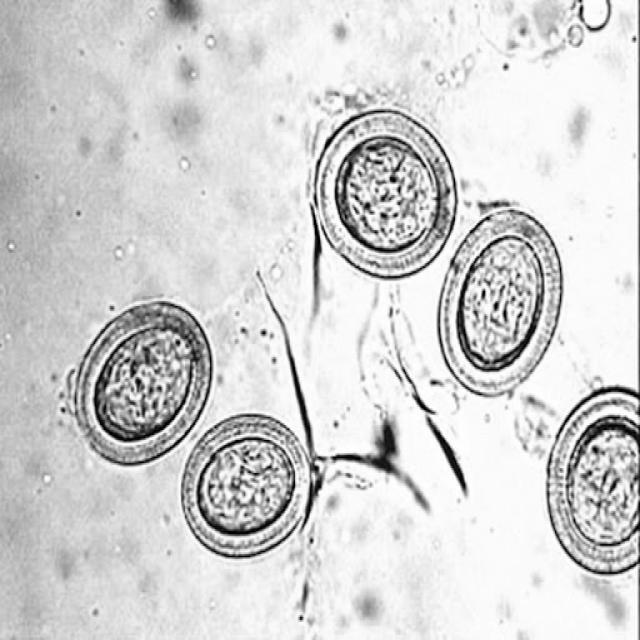Taenia Sp: (307, 99, 458, 288), (436, 198, 566, 401), (70, 292, 214, 470), (176, 409, 316, 566), (542, 382, 638, 587)
